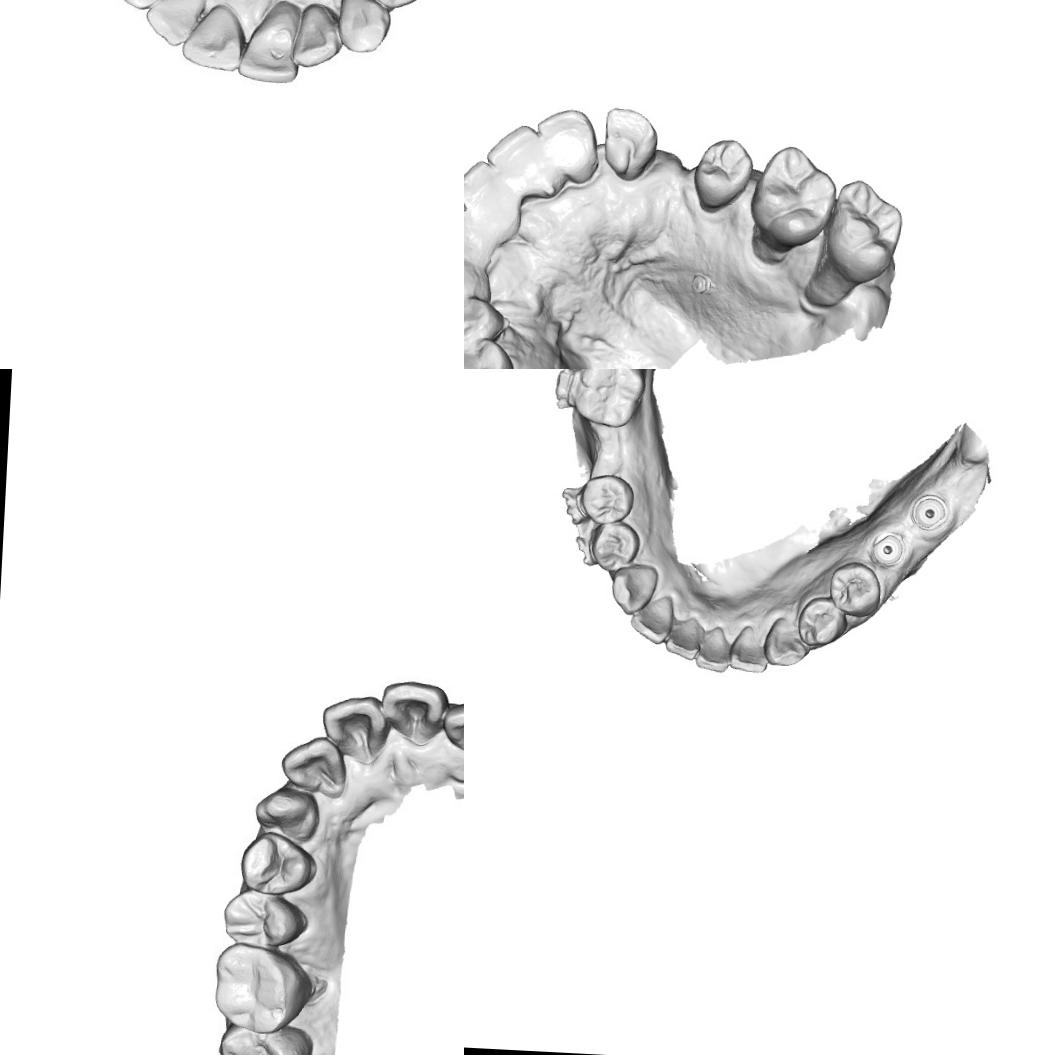canine: (599, 104, 659, 183), (252, 785, 327, 844), (332, 0, 391, 55), (609, 561, 659, 615), (762, 615, 809, 667), (464, 249, 494, 310), (111, 0, 186, 16)
implant: (866, 527, 906, 569), (909, 492, 948, 532)
incisor: (239, 0, 305, 80), (316, 692, 389, 764), (275, 734, 351, 800), (532, 104, 596, 176), (176, 6, 246, 68), (385, 680, 448, 746), (484, 121, 545, 185), (292, 2, 346, 68), (142, 0, 207, 51), (464, 155, 506, 220), (627, 592, 675, 644), (727, 622, 770, 673), (692, 623, 734, 674), (664, 616, 702, 660), (464, 204, 483, 265), (444, 698, 464, 754)
molar: (210, 942, 320, 1034), (745, 142, 839, 246), (822, 176, 907, 285), (566, 369, 647, 430), (215, 1022, 318, 1055)
premolar: (222, 886, 311, 955), (237, 830, 318, 896), (690, 134, 752, 208), (826, 559, 883, 619), (578, 471, 636, 526), (795, 594, 849, 648), (589, 518, 641, 574), (464, 295, 505, 356), (464, 337, 517, 369)
